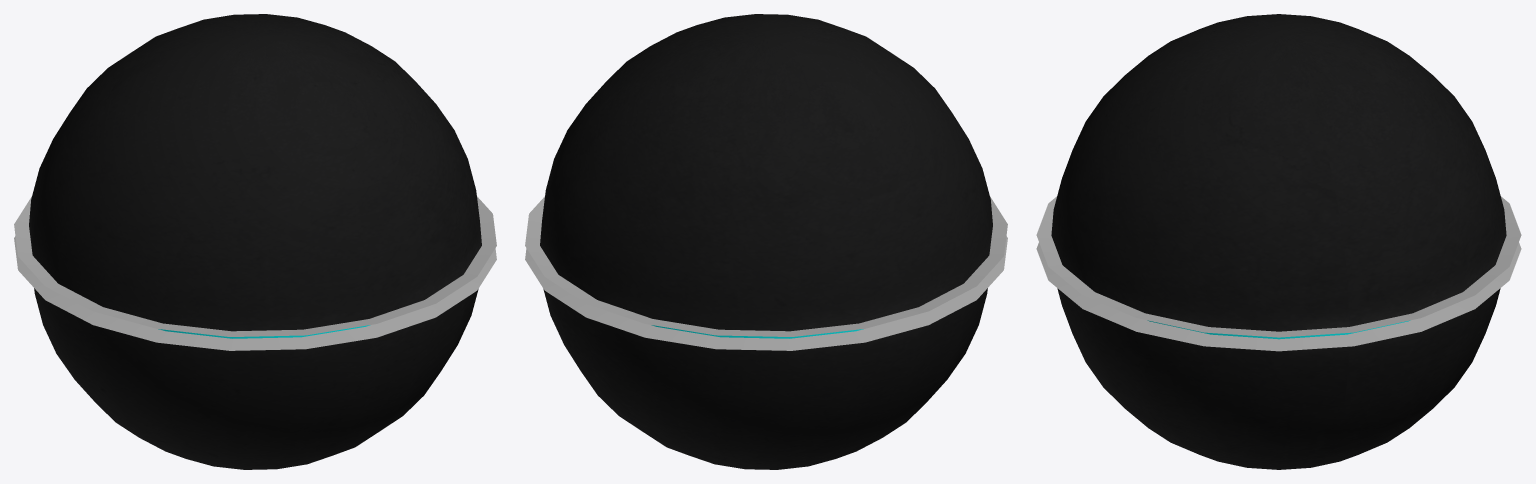
Rendered from Hi-tech.fbx.
3 renders of one model, left to right at view 1: azimuth 30°, elevation 25°; view 2: azimuth 150°, elevation 25°; view 3: azimuth 270°, elevation 25°, orthographic.
Visible parts, largest first — view 1: polySurface6; view 2: polySurface6; view 3: polySurface6.
Part boxes in pixels (<box>): polySurface6: <box>14,14,496,469</box>; polySurface6: <box>525,14,1007,469</box>; polySurface6: <box>1036,14,1521,469</box>.
Size of the model in its own units: 0.5856 by 0.5508 by 0.5856.
Materials: 2 (1 with a texture image).
